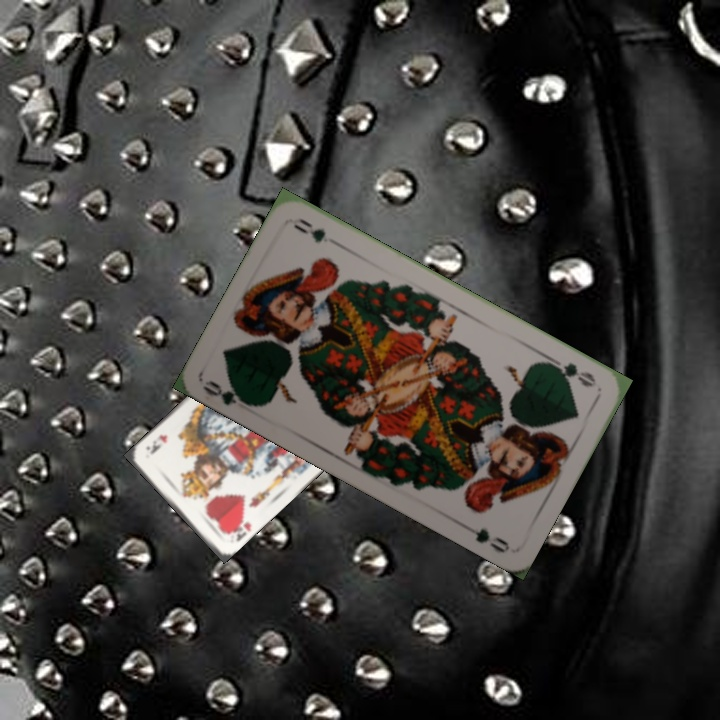GO: (545, 353, 599, 390), (200, 376, 258, 409)
HK: (222, 513, 254, 544)
